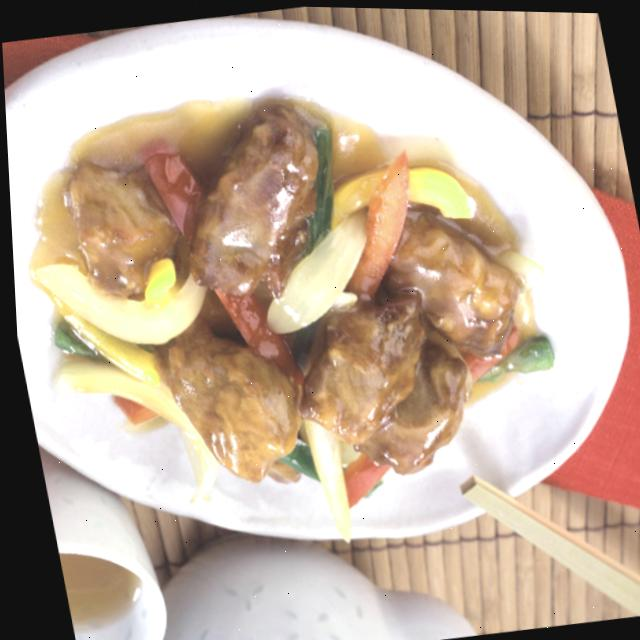猪肉菜式: (2, 51, 586, 587)
